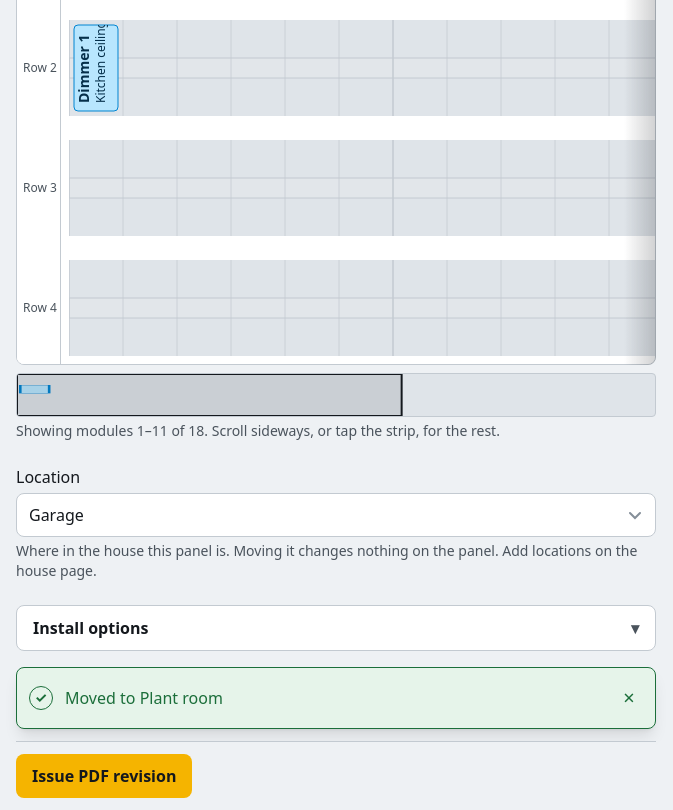
Test case: PanelPage › the location picker › says the panel is no longer placed when Not placed is chosen
(page scrolled)
Select "Not placed" in the dropdown labelled "Location" at (336, 515), box [16,493,656,537]
(page scrolled)
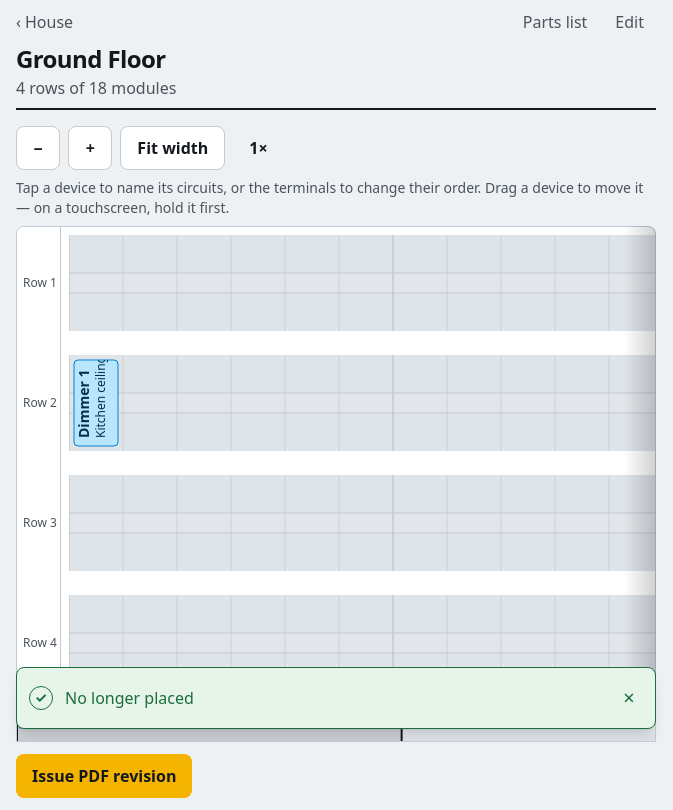
Expected: the text "4 rows of 18 modules" is shown, [16,77,176,99]
Expected: the message shows "No longer placed", [65,687,194,709]
